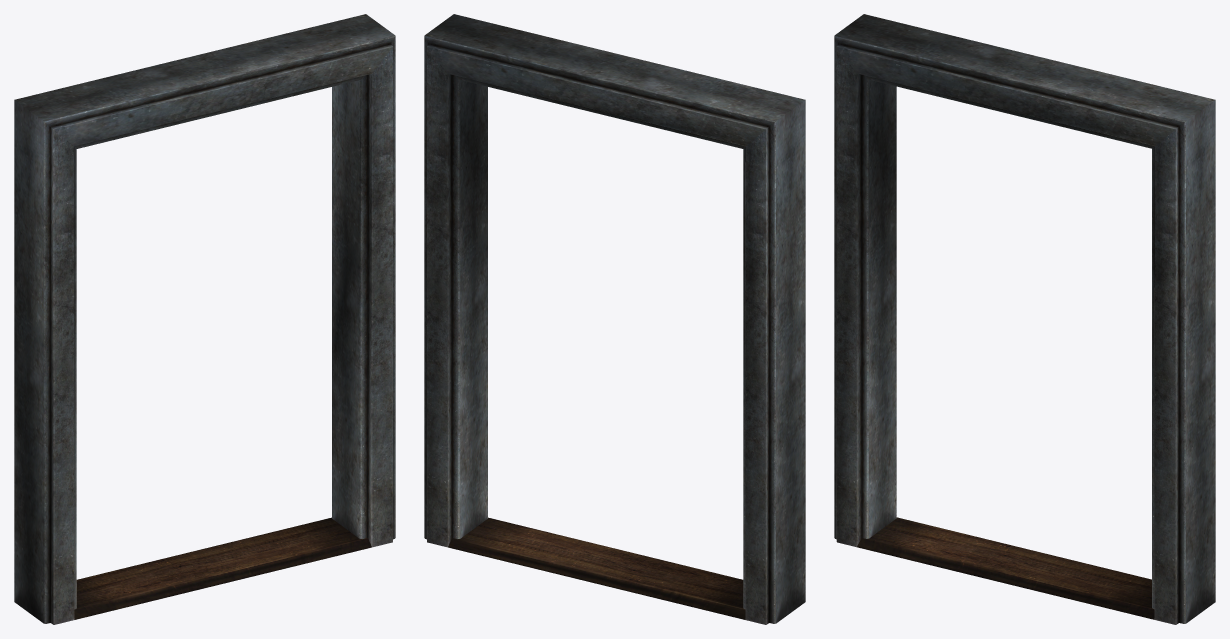
Rendered from scanningroom_doorframe.dae.
The picture shows the model from 3 angles, left to right: view 1: azimuth 30°, elevation 25°; view 2: azimuth 150°, elevation 25°; view 3: azimuth 330°, elevation 25°; orthographic projection.
Visible parts, largest first — view 1: pCube2; view 2: pCube2; view 3: pCube2.
Part boxes in pixels (x1=…): pCube2: x1=14, y1=14, x2=395, y2=624; pCube2: x1=424, y1=14, x2=805, y2=624; pCube2: x1=834, y1=14, x2=1215, y2=624.
Size of the model in its own units: 2.17 by 2.97 by 0.4.
